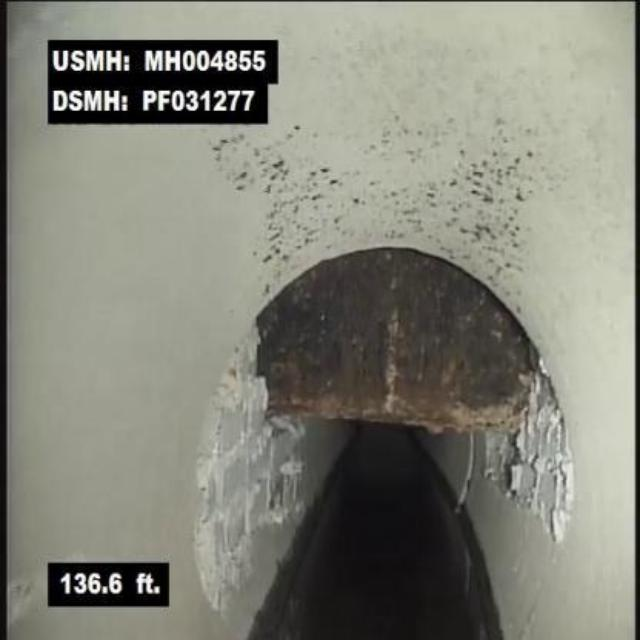Utility intrusion: (197, 245, 558, 435)
